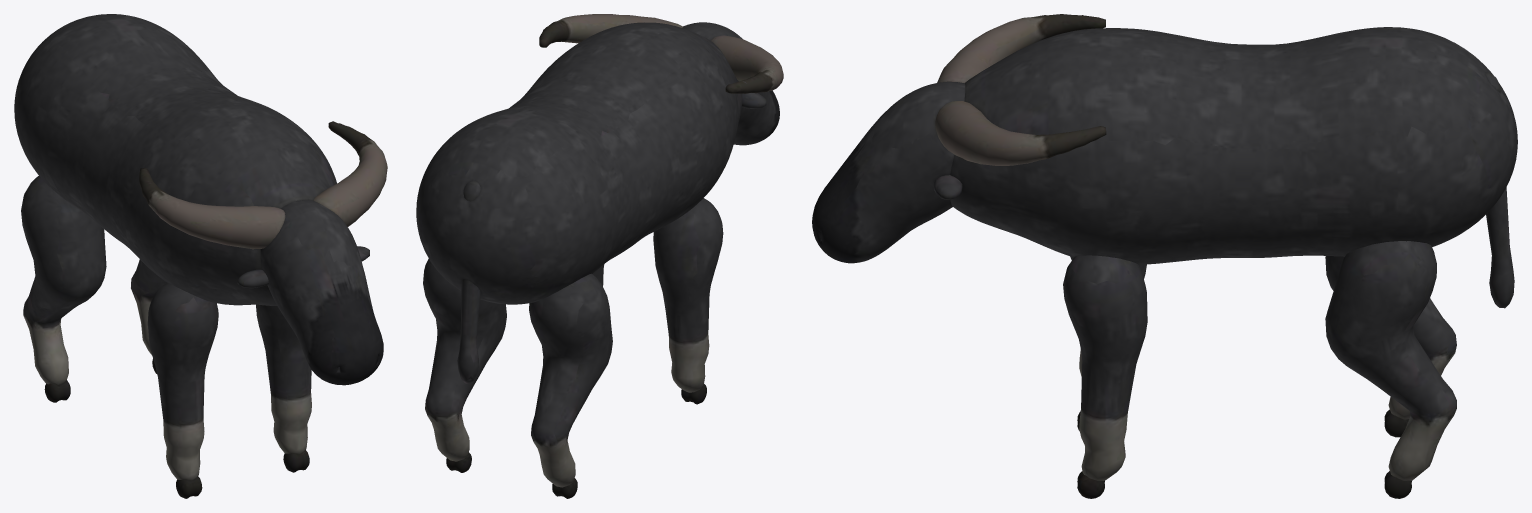
The model's file is animal_buffalo.glb.
The picture shows the model from 3 angles, left to right: view 1: azimuth 30°, elevation 25°; view 2: azimuth 150°, elevation 25°; view 3: azimuth 270°, elevation 25°; orthographic projection. The views are drawn at different scales.
Visible parts, largest first — view 1: animal_buffalo, head, leg2, leg0, leg1, leg3; view 2: animal_buffalo, leg2, leg0, leg3, head, tail; view 3: animal_buffalo, head, leg3, leg1, leg2, tail.
Boxes of the visible parts, x1,y1,x2,y2 form: animal_buffalo: (14,14,336,305); head: (139,121,387,385); leg2: (21,176,106,402); leg0: (147,282,218,498); leg1: (256,304,311,472); leg3: (131,259,166,373); animal_buffalo: (416,22,742,304); leg2: (529,273,612,498); leg0: (653,198,723,404); leg3: (423,258,506,472); head: (539,14,783,145); tail: (457,181,480,383); animal_buffalo: (950,27,1517,264); head: (812,14,1106,263); leg3: (1325,241,1456,498); leg1: (1063,255,1147,498); leg2: (1325,256,1456,437); tail: (1485,72,1514,308).
Bounding box in the file's own units: 0.3387 × 0.5192 × 0.777.
1 material, 1 textured.
